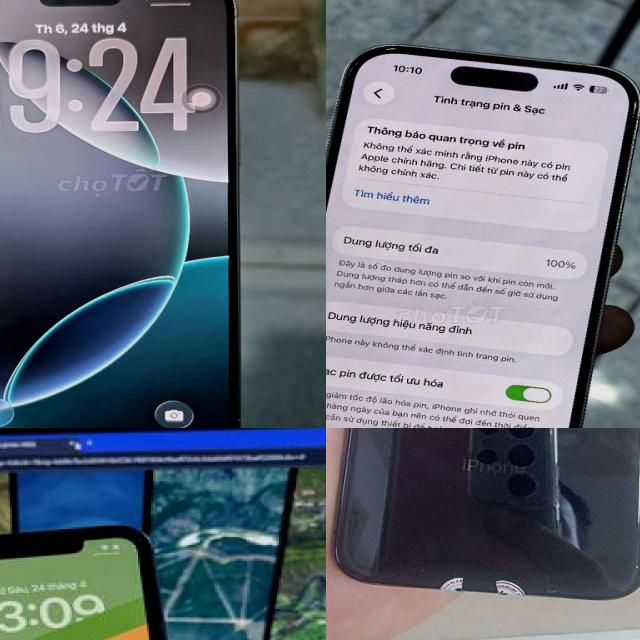gen_11: (0, 526, 161, 640)
gen_14: (326, 30, 640, 428)
gen_16: (0, 0, 238, 428)
gen_x_xs: (329, 428, 640, 603)
scratch: (532, 580, 568, 600), (612, 556, 640, 578), (408, 560, 436, 582)
